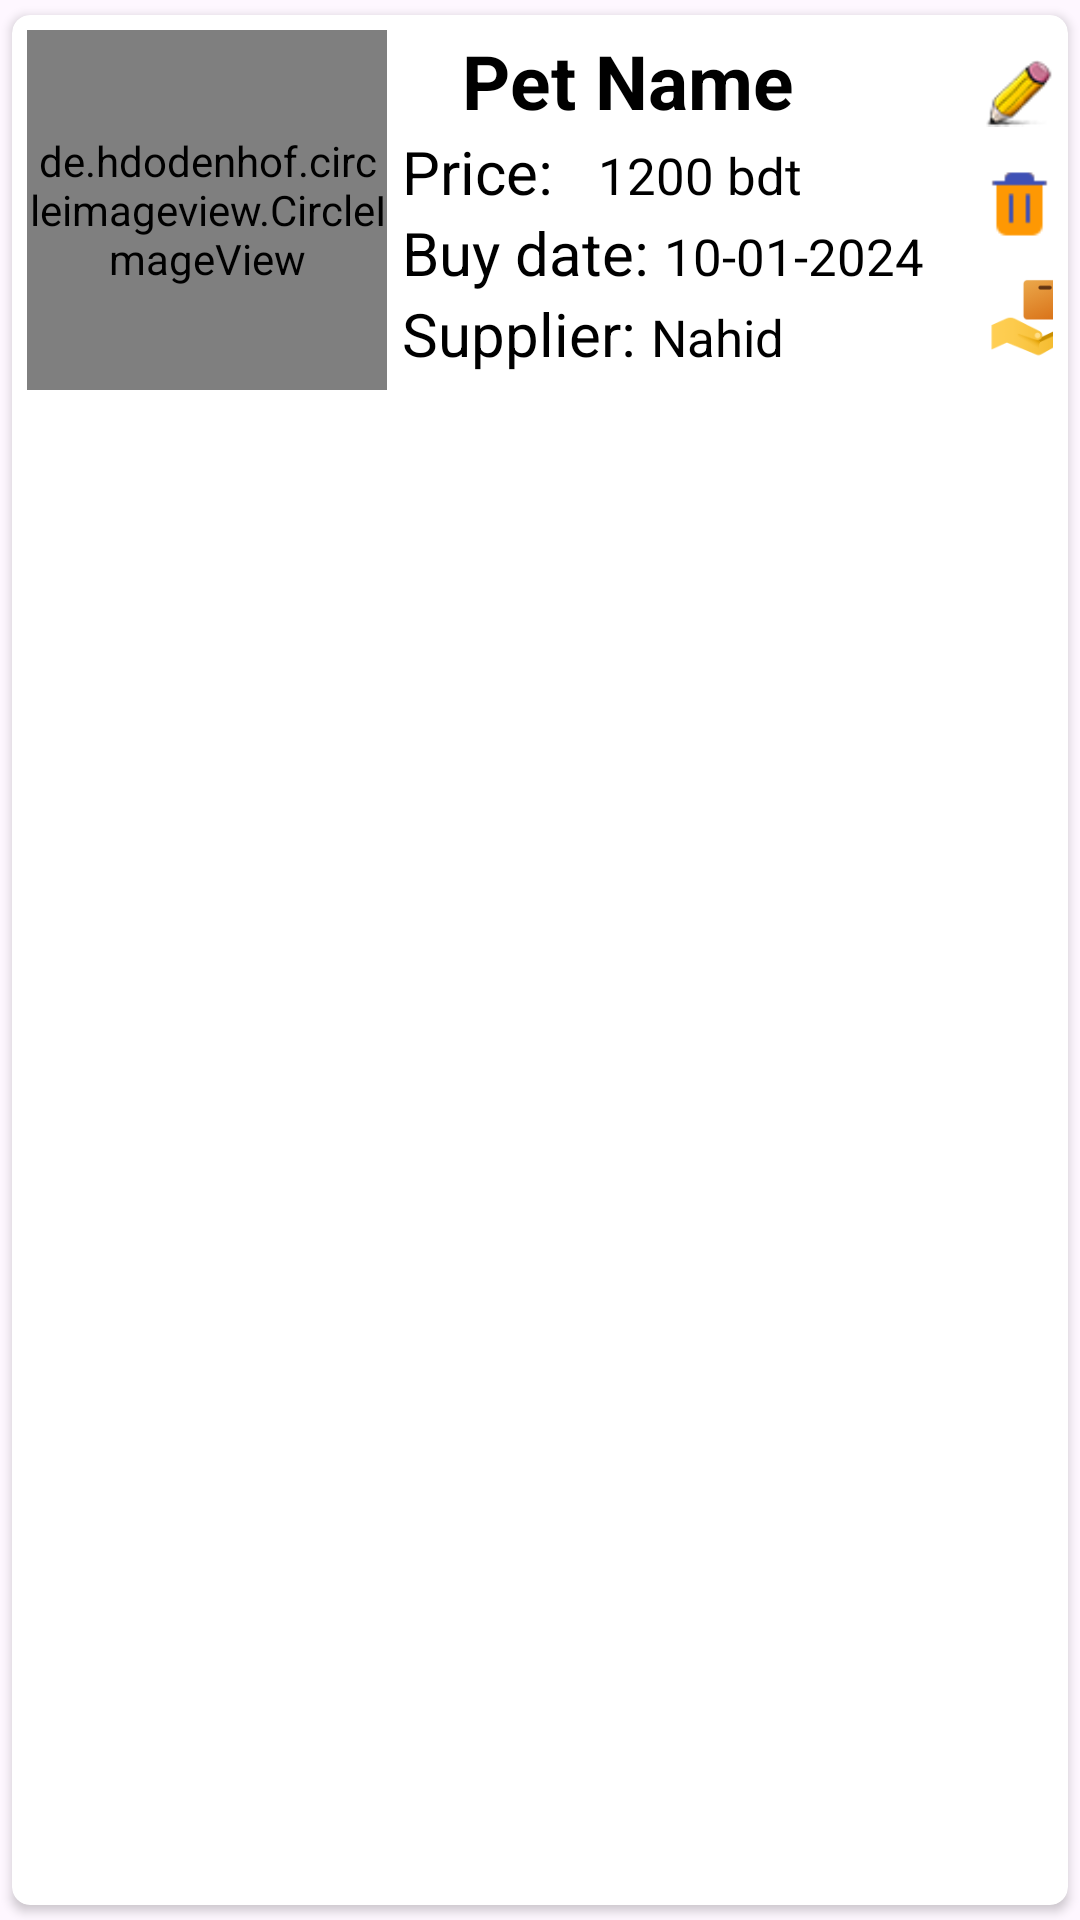

Icons on this 1080 × 1920 Android screen, each with the point to tap as (x,y):
delete: (1019,204)
edit: (1019,94)
